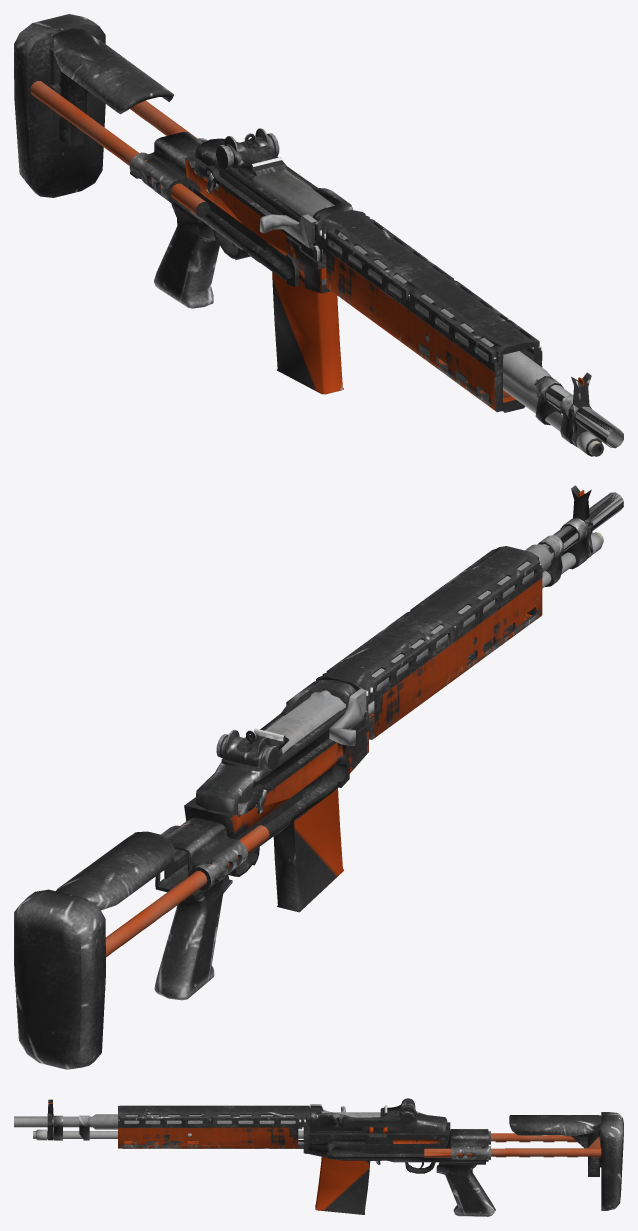
Rendered from EBR.fbx.
3 views of the same model, one above another, from view 1: azimuth 30°, elevation 25°; view 2: azimuth 150°, elevation 25°; view 3: azimuth 270°, elevation 25° (orthographic). The views are drawn at different scales.
Parts seen in each view (by area): view 1: EBR, Mag, Eject; view 2: EBR, Mag, Eject; view 3: EBR, Mag, Eject.
Boxes of the visible parts, x1,y1,x2,y2 form: EBR: (14, 14, 623, 456); Mag: (272, 254, 343, 394); Eject: (253, 169, 334, 248); EBR: (14, 485, 623, 1069); Mag: (273, 788, 343, 912); Eject: (253, 689, 366, 755); EBR: (14, 1098, 623, 1216); Mag: (315, 1156, 370, 1214); Eject: (310, 1104, 380, 1117).
Bounding box in the file's own units: 332 × 727 × 3599.
